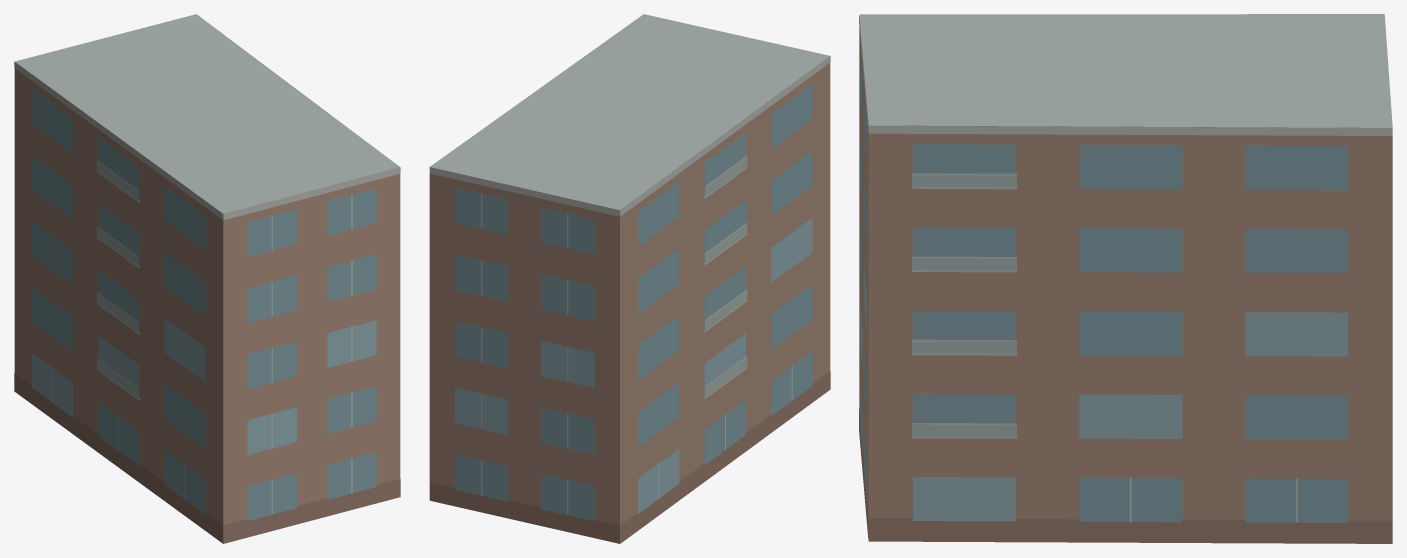
File: survey-upis-32801080.glb
3 renders of one model, left to right at view 1: azimuth 30°, elevation 25°; view 2: azimuth 150°, elevation 25°; view 3: azimuth 270°, elevation 25°, orthographic. The views are drawn at different scales.
Visible parts, largest first — view 1: survey-upis-32801080.tmp; view 2: survey-upis-32801080.tmp; view 3: survey-upis-32801080.tmp.
Boxes of the visible parts, left/top/right/bottom form: survey-upis-32801080.tmp: left=14, top=14, right=400, bottom=543; survey-upis-32801080.tmp: left=429, top=14, right=830, bottom=543; survey-upis-32801080.tmp: left=859, top=14, right=1392, bottom=543.
Bounding box in the file's own units: 7.38 × 12.5 × 14.54.
